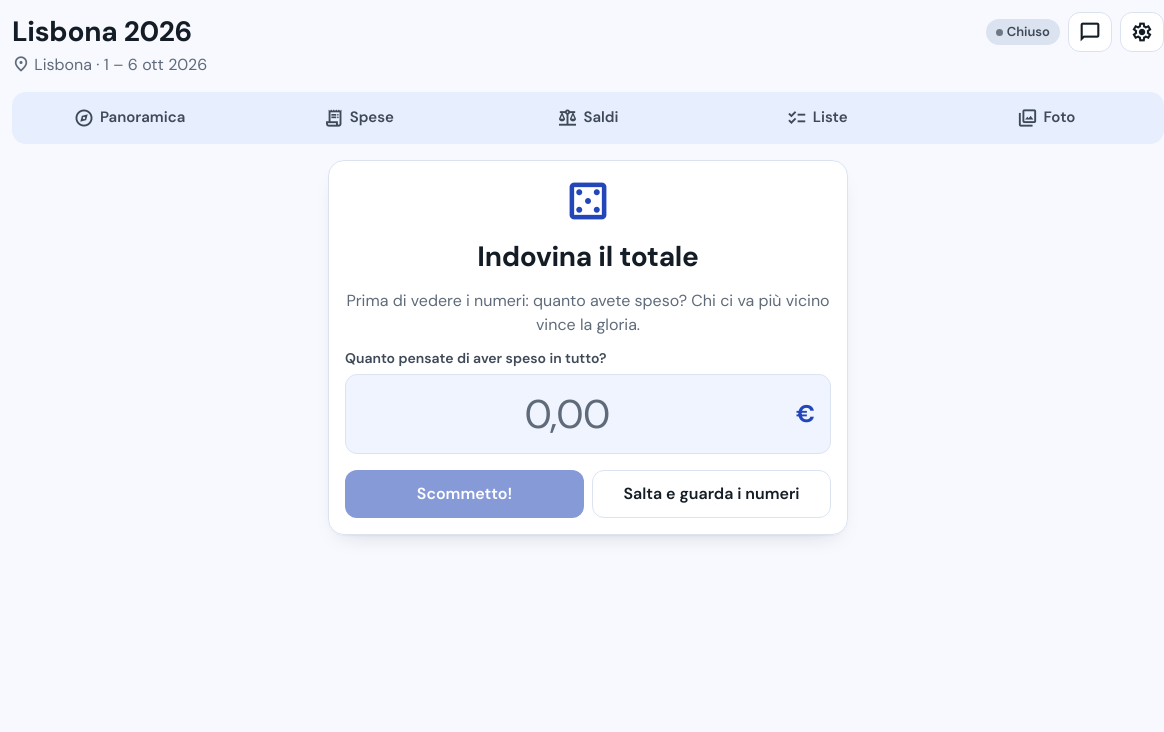
se la scommessa non parte lo dice, e se c'era già (da un altro dispositivo) va alla rivelazione
Type "700" into the field labelled "Quanto pensate di aver speso in tutto?" at x=588, y=414, box [345,374,831,454]
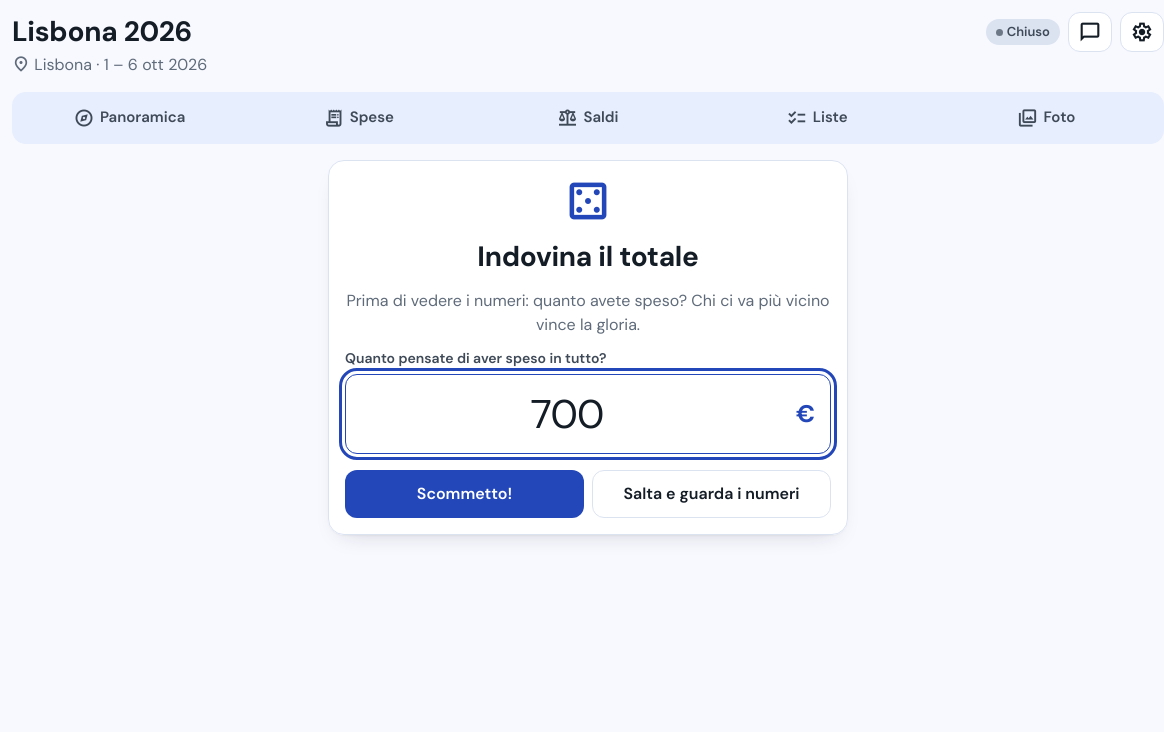
Click the button "Scommetto!" at x=464, y=494, box [345,470,584,518]
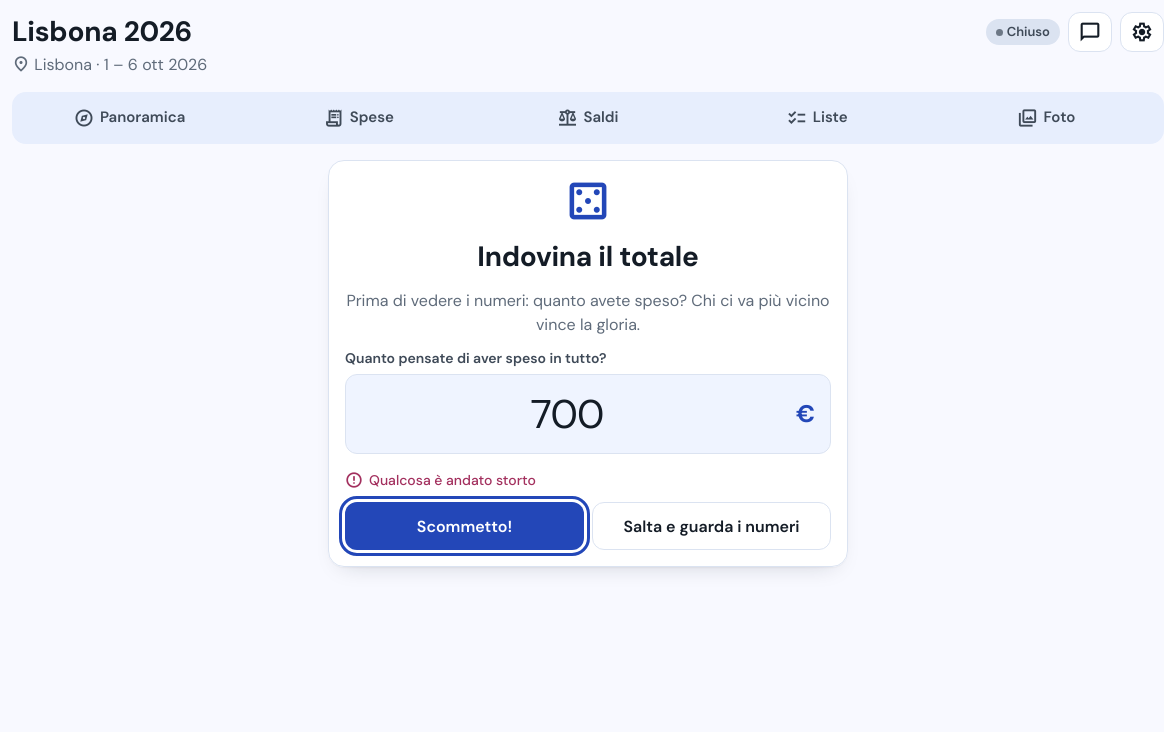
Expected: the message reads "Qualcosa è andato storto", [369,471,536,489]
Click the button "Scommetto!" at x=464, y=526, box [345,502,584,550]
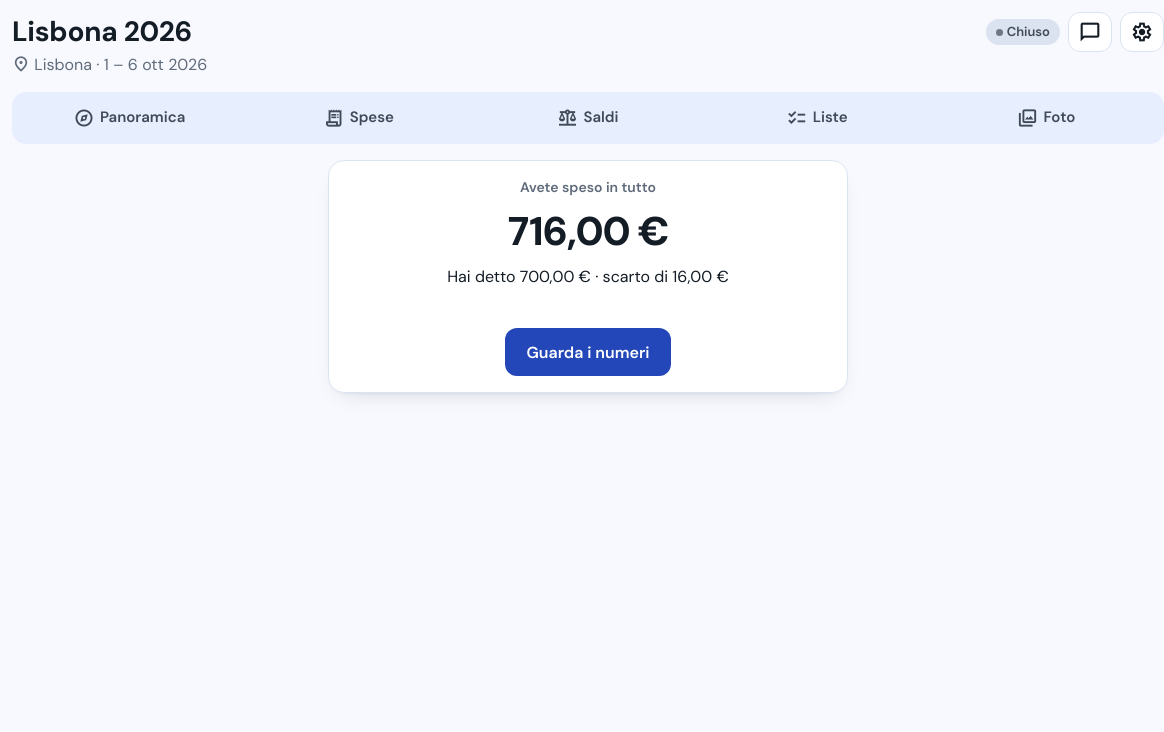
Expected: the text "Hai detto 700,00 € · scarto di 16,00 €" is shown, [447,265,729,288]
